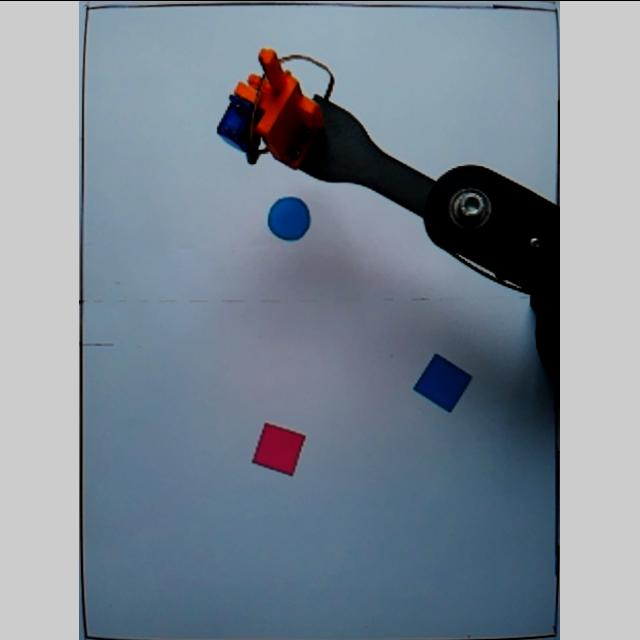blueCircle: (266, 194, 314, 242)
blueSquare: (412, 352, 474, 412)
pinkSquare: (251, 421, 309, 475)
